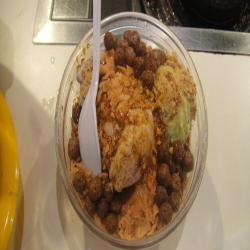omelette: (166, 47, 199, 144)
